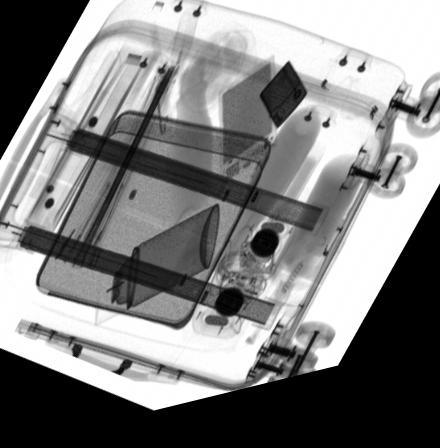Lighter: (258, 75, 307, 143)
Powerbank: (217, 67, 277, 199)
Sprayer: (93, 214, 219, 331)
